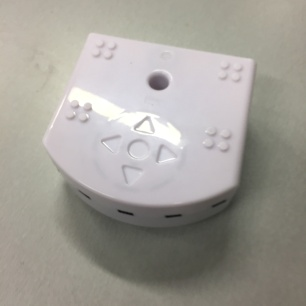thymio: (39, 26, 260, 235)
